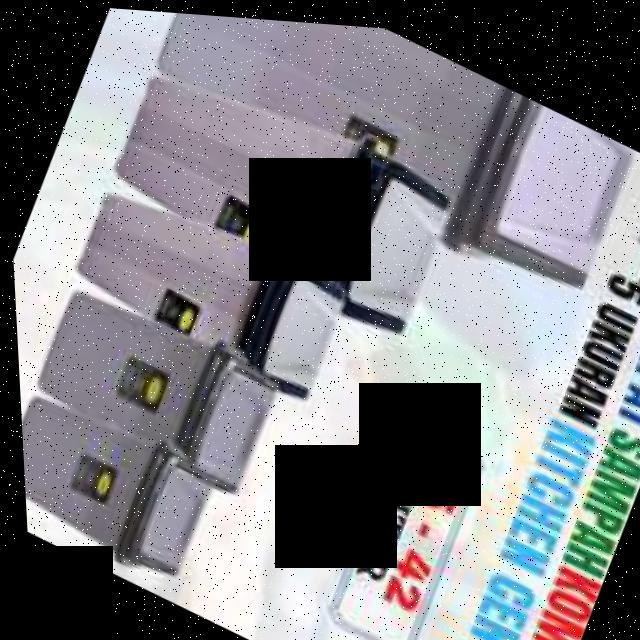bin: (133, 8, 640, 306), (86, 31, 466, 347), (44, 149, 362, 402), (14, 277, 289, 502), (15, 377, 225, 601)
